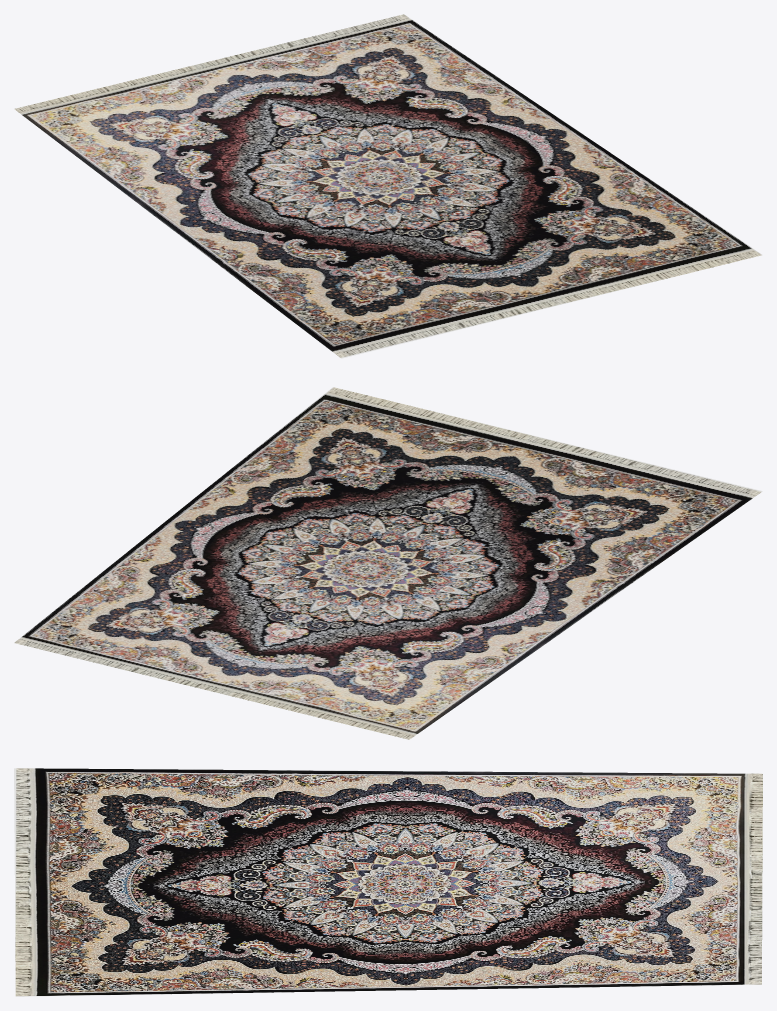
The picture shows the model from 3 angles, top to bottom: view 1: azimuth 30°, elevation 25°; view 2: azimuth 150°, elevation 25°; view 3: azimuth 270°, elevation 25°; orthographic projection. The views are drawn at different scales.
Parts seen in each view (by area): view 1: Object_2; view 2: Object_2; view 3: Object_2.
Boxes of the visible parts, <box> form: Object_2: <box>14,14,762,358</box>; Object_2: <box>14,387,762,739</box>; Object_2: <box>14,768,762,996</box>.
Bounding box in the file's own units: 273 × 8.39e-14 × 378.
Materials: 1 (1 with a texture image).
